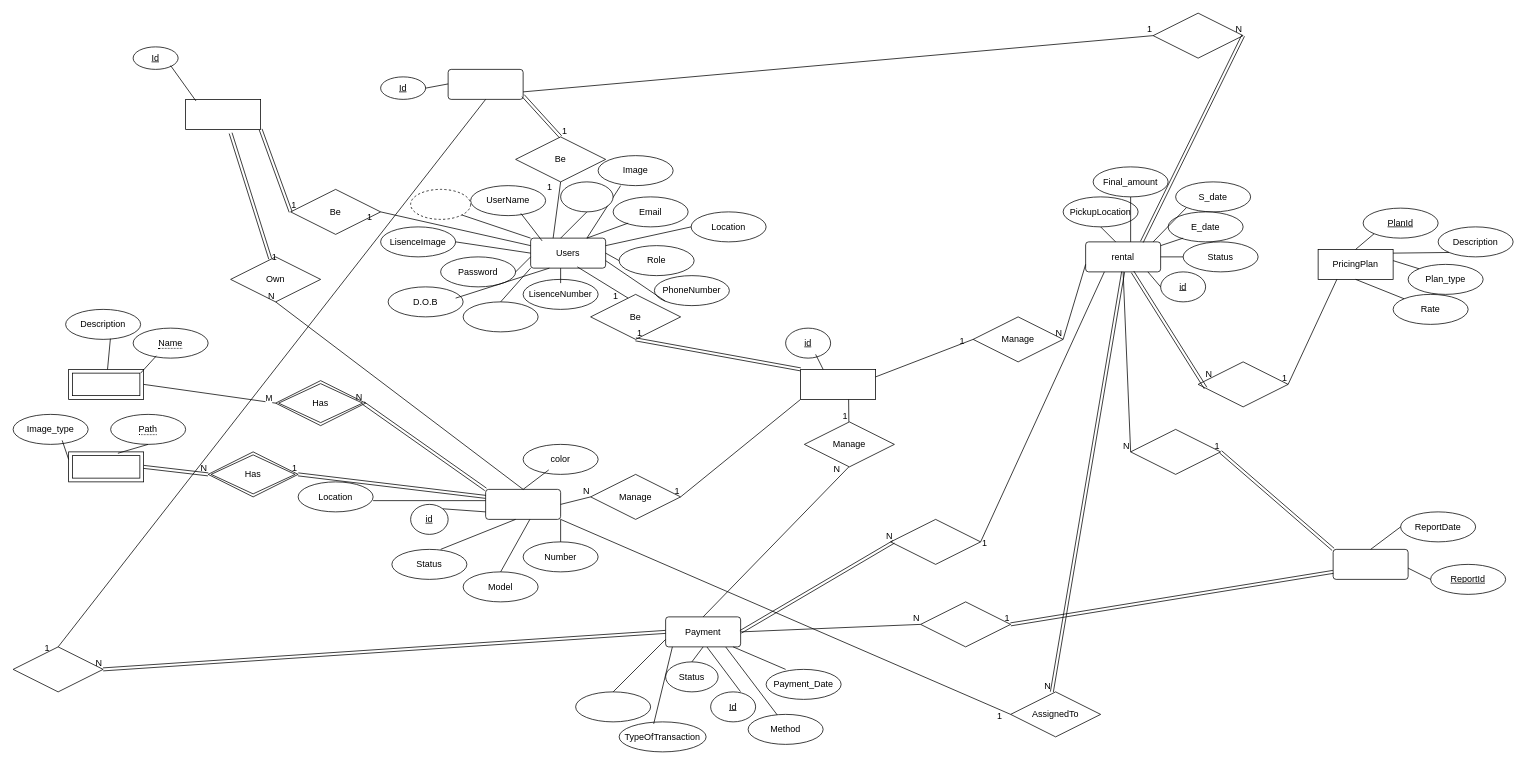
The diagram is 1526 pixels wide and 765 high, and some of its shapes have lost their labels. The box of each missing label's shape, as (x1, y1, x2, y2) in pixels:
Admin: (800, 369, 876, 399)
Age: (410, 189, 471, 219)
Assigned to: (890, 519, 981, 564)
BelongsTo: (1197, 361, 1288, 407)
Car: (485, 489, 561, 519)
Car owner: (185, 99, 261, 129)
CarFeature: (68, 369, 144, 399)
CarImage: (68, 451, 144, 482)
Customer: (447, 69, 523, 99)
Gender: (560, 181, 613, 212)
Paid_amount: (575, 691, 651, 722)
Pay: (12, 646, 103, 692)
Rent: (1152, 12, 1243, 58)
Report: (1332, 549, 1408, 579)
ReportPayment: (920, 601, 1011, 647)
ReportRental: (1130, 429, 1221, 474)
User_Id: (462, 301, 538, 332)
